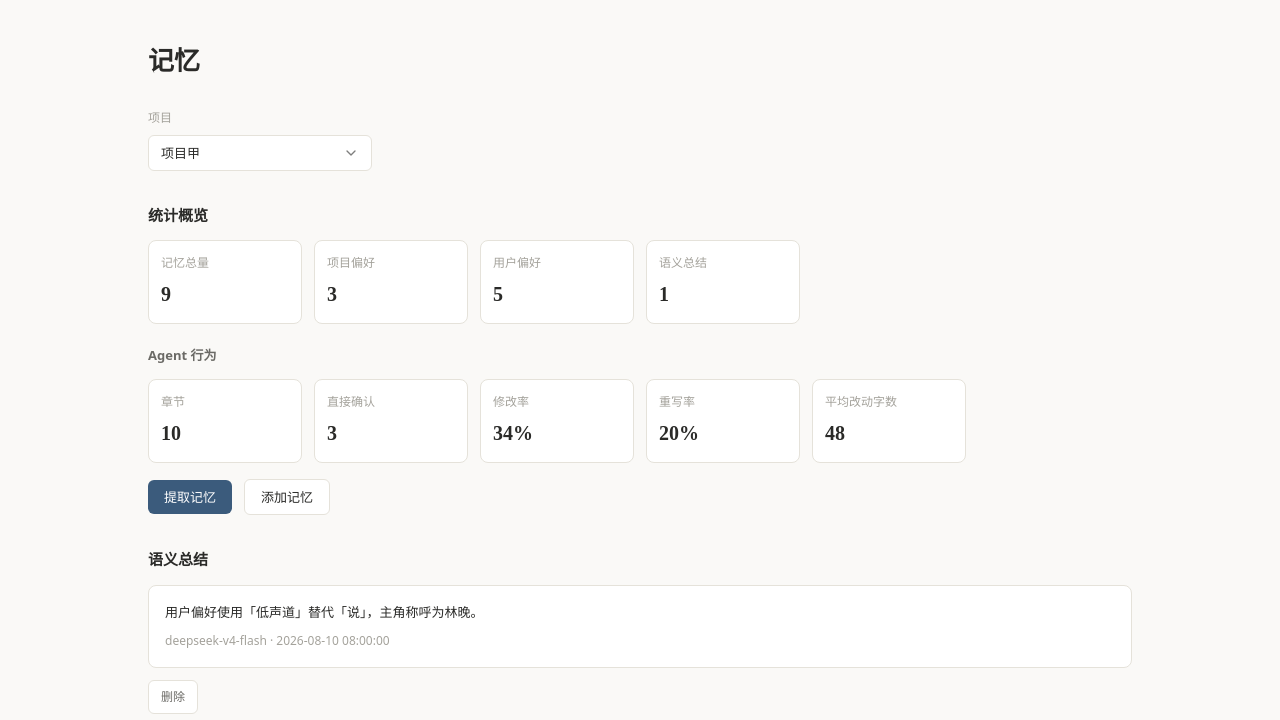
Scenario: 记忆页 — 手动添加/编辑记忆（#521） › 取消：点添加 → 点取消 → 表单关闭且不调任何 create/update API
Click the button with test id "memory-add-btn" at (287, 497), box top-left (244, 479), bottom-right (330, 515)
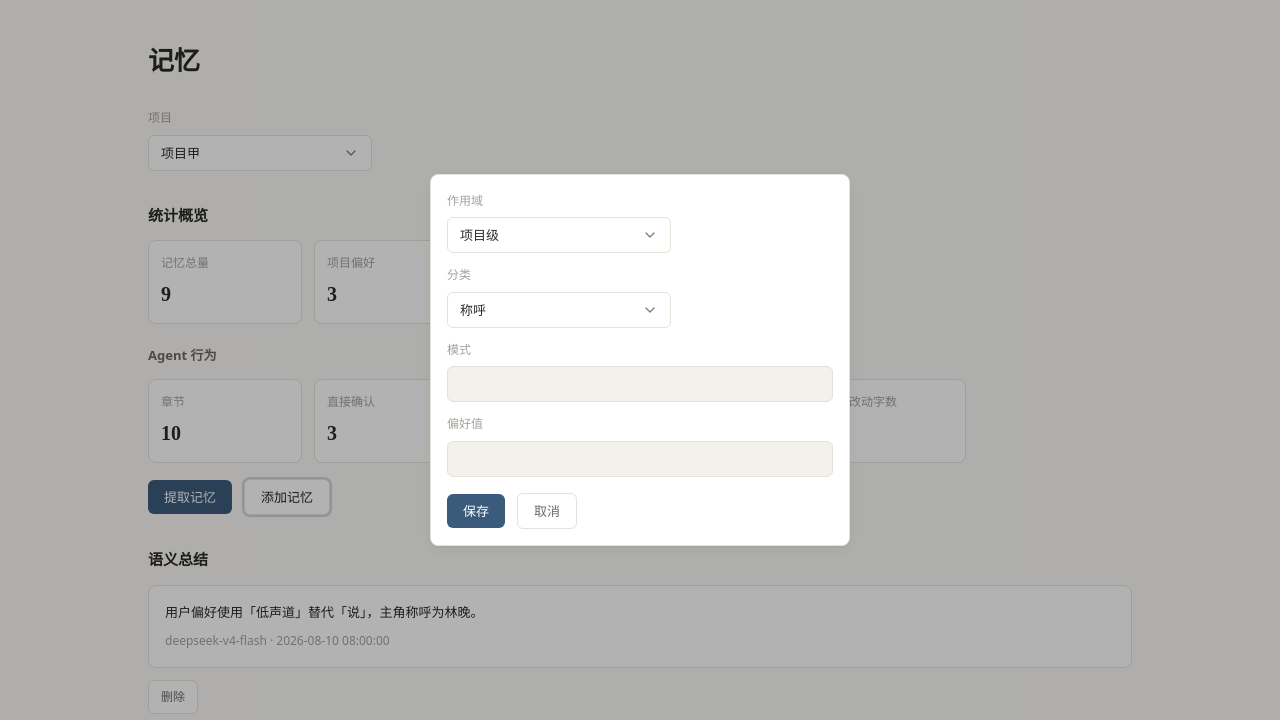
Now the dialog with test id "memory-add-form" is shown, box top-left (430, 174), bottom-right (850, 546)
Click the button with test id "memory-add-cancel" at (547, 511), box top-left (517, 493), bottom-right (577, 529)
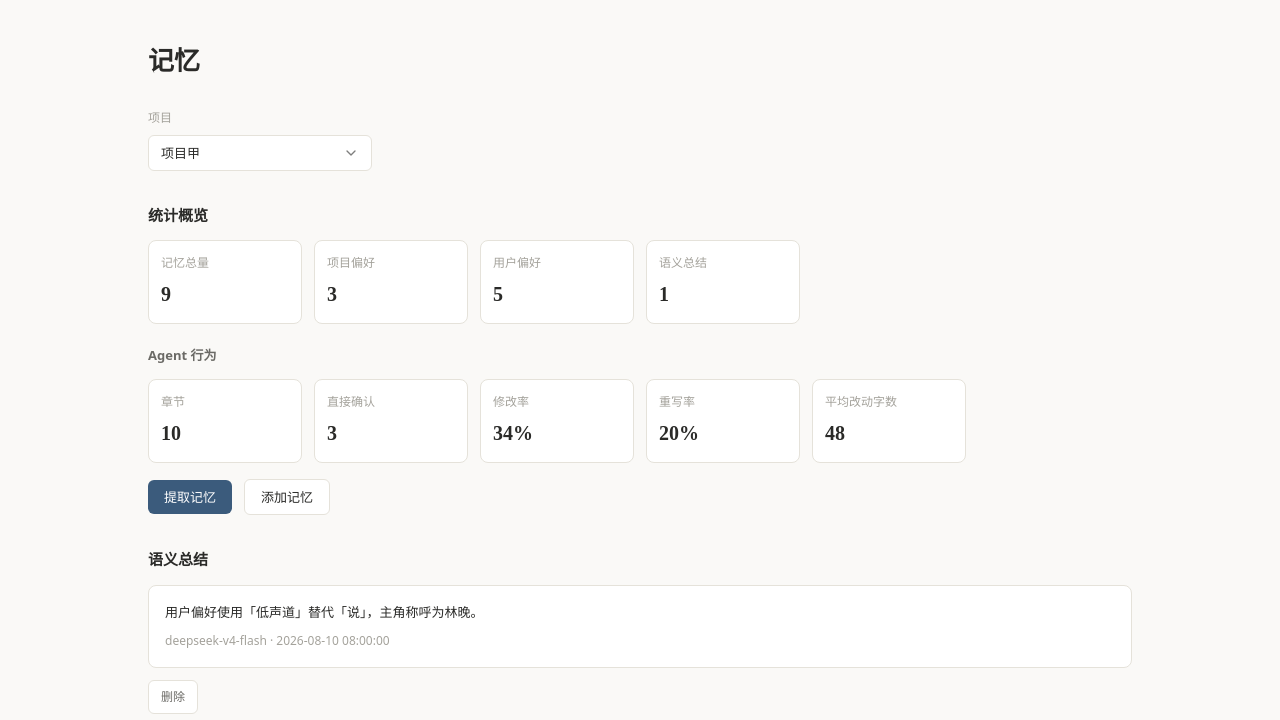
Now the dialog with test id "memory-add-form" is gone
